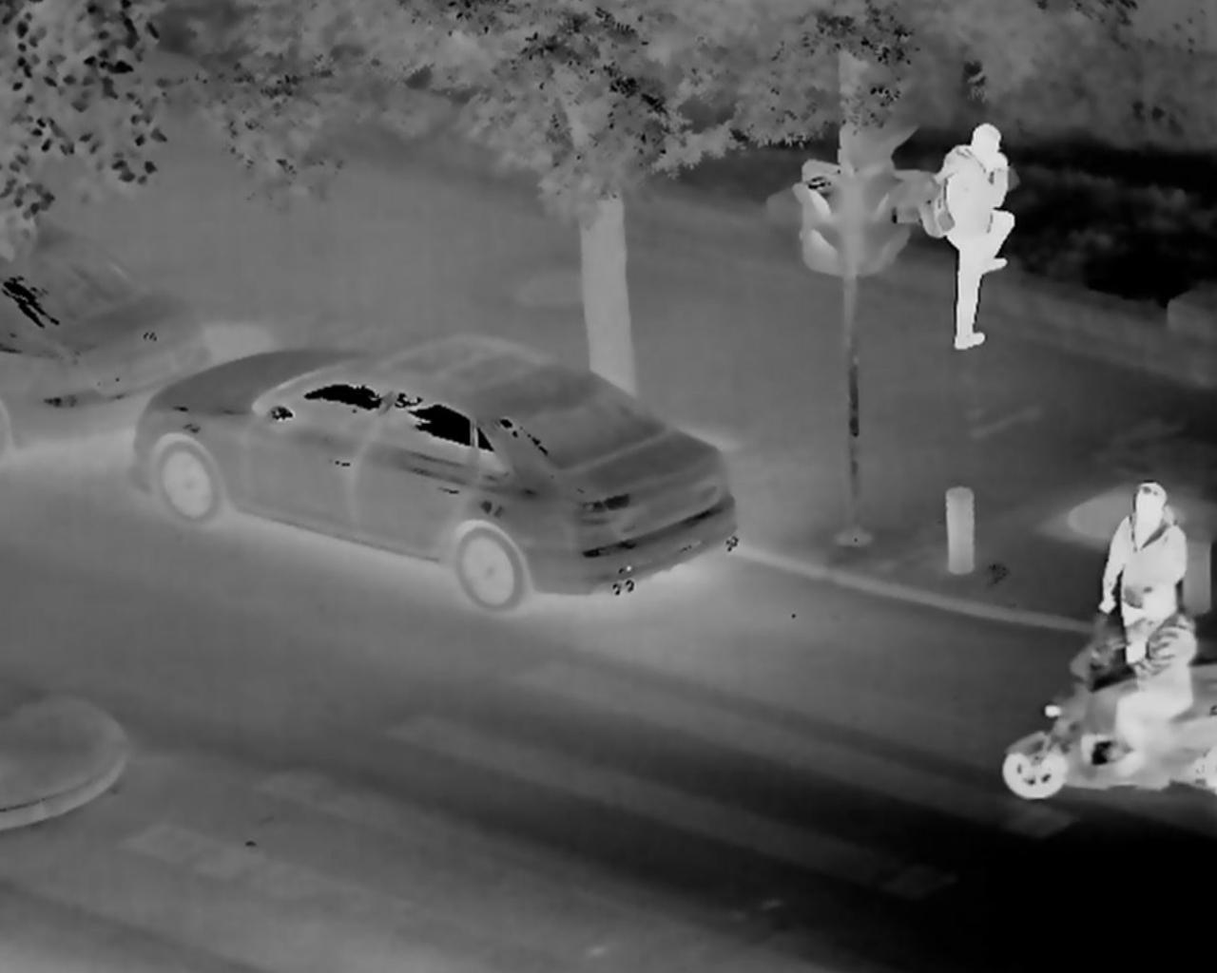person: (920, 110, 1023, 355), (1111, 486, 1191, 667), (1125, 602, 1197, 796)
